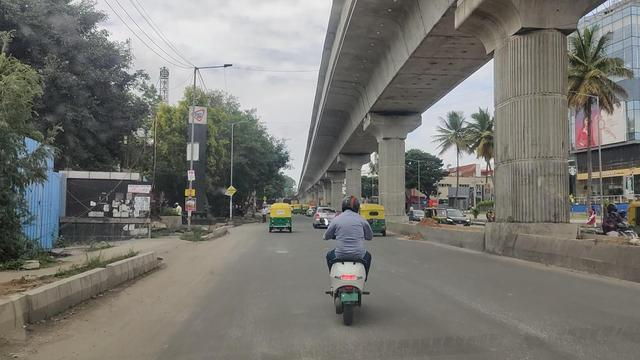LMV: (319, 190, 373, 321), (268, 203, 295, 231)
